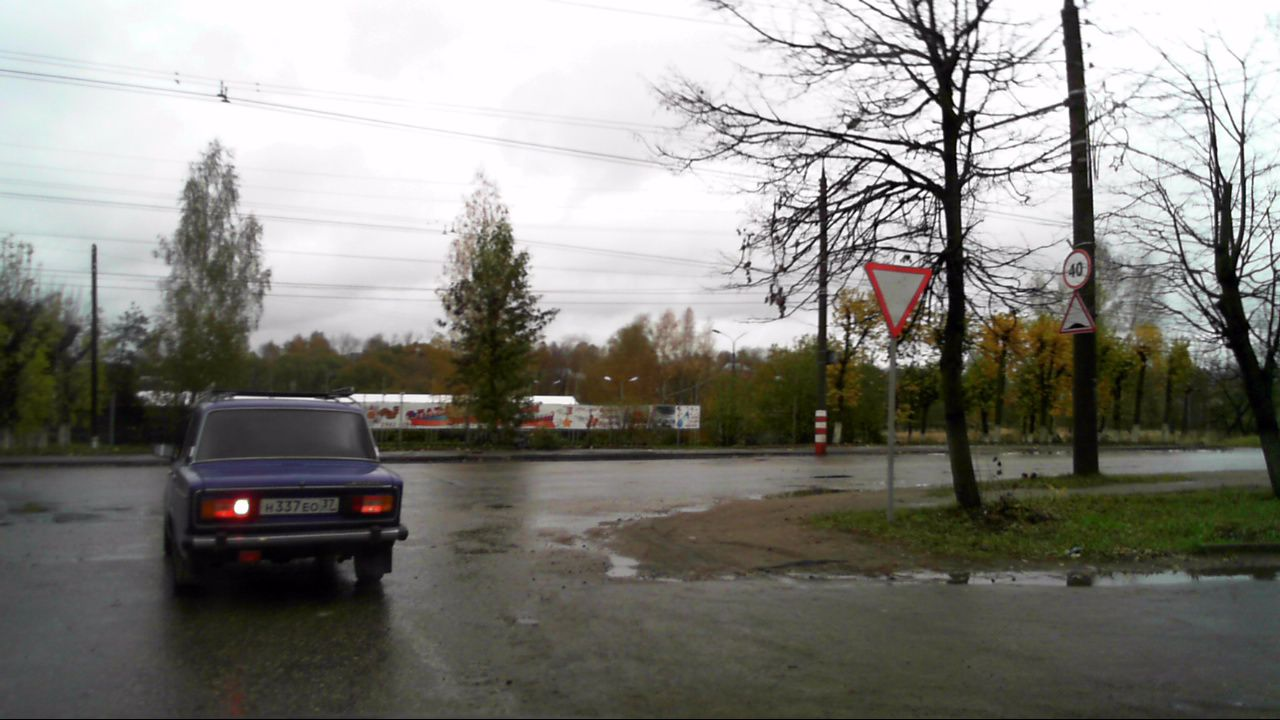speed_warning_40: (1062, 247, 1092, 289)
